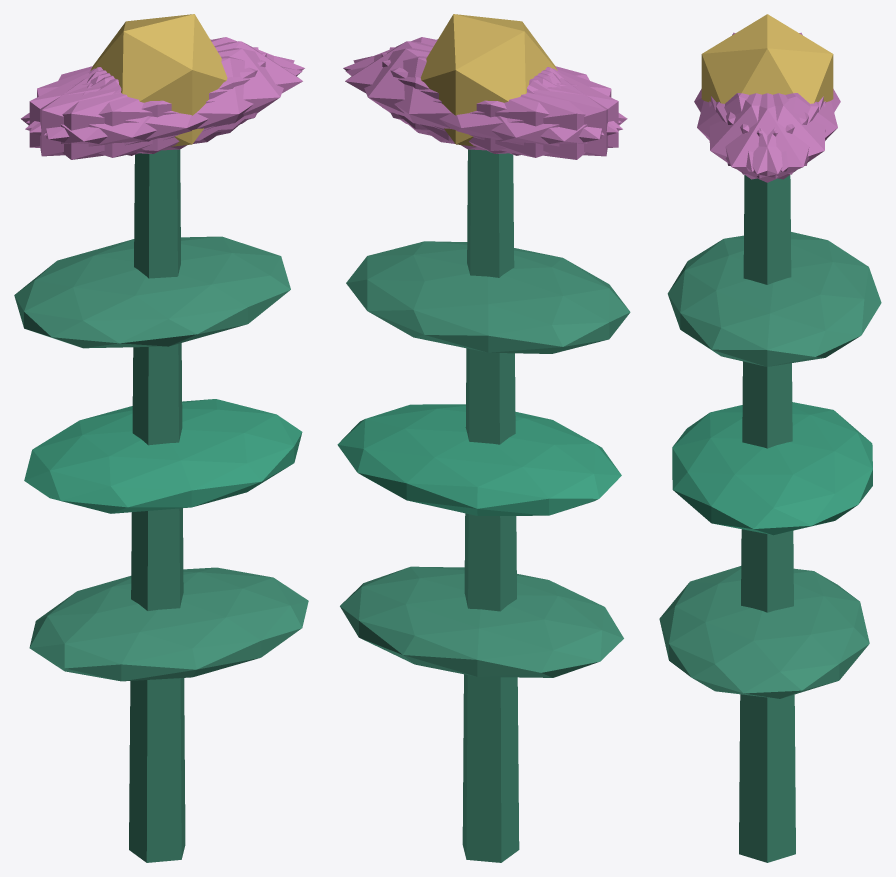
File: dioscorea-alata.glb
The picture shows the model from 3 angles, left to right: view 1: azimuth 30°, elevation 25°; view 2: azimuth 150°, elevation 25°; view 3: azimuth 270°, elevation 25°; orthographic projection.
Visible parts, largest first — view 1: stem, leaf0, leaf2, leaf1, center, petal1, petal6, petal2, petal5, petal7, petal0, petal4 (+2 smaller); view 2: stem, leaf2, leaf1, leaf0, center, petal8, petal3, petal7, petal4, petal2, petal0, petal5 (+2 smaller); view 3: stem, leaf2, leaf0, leaf1, center, petal0, petal5, petal4, petal1, petal8.
Boxes of the visible parts, x1=… form: stem: x1=129, y1=149, x2=185, y2=862; leaf0: x1=29, y1=567, x2=308, y2=681; leaf2: x1=14, y1=236, x2=290, y2=348; leaf1: x1=24, y1=399, x2=302, y2=513; center: x1=90, y1=14, x2=227, y2=146; petal1: x1=25, y1=56, x2=302, y2=157; petal6: x1=21, y1=68, x2=221, y2=159; petal2: x1=40, y1=47, x2=258, y2=156; petal5: x1=44, y1=48, x2=294, y2=150; petal7: x1=29, y1=53, x2=266, y2=153; petal0: x1=90, y1=41, x2=302, y2=141; petal4: x1=26, y1=37, x2=304, y2=132; stem: x1=462, y1=149, x2=519, y2=862; leaf2: x1=346, y1=241, x2=630, y2=353; leaf1: x1=337, y1=404, x2=621, y2=515; leaf0: x1=340, y1=566, x2=623, y2=677; center: x1=420, y1=14, x2=557, y2=146; petal8: x1=345, y1=56, x2=622, y2=157; petal3: x1=427, y1=68, x2=627, y2=159; petal7: x1=389, y1=47, x2=607, y2=156; petal4: x1=353, y1=48, x2=604, y2=150; petal2: x1=381, y1=53, x2=618, y2=153; petal0: x1=345, y1=41, x2=557, y2=141; petal5: x1=343, y1=37, x2=621, y2=132; stem: x1=739, y1=175, x2=795, y2=862; leaf2: x1=667, y1=232, x2=881, y2=366; leaf0: x1=659, y1=566, x2=869, y2=698; leaf1: x1=672, y1=402, x2=872, y2=535; center: x1=701, y1=14, x2=833, y2=103; petal0: x1=711, y1=93, x2=823, y2=182; petal5: x1=709, y1=93, x2=818, y2=179; petal4: x1=716, y1=93, x2=825, y2=179; petal1: x1=697, y1=93, x2=808, y2=171; petal8: x1=726, y1=93, x2=837, y2=171.
Bounding box in the file's own units: 0.1452 × 0.4212 × 0.1036.
